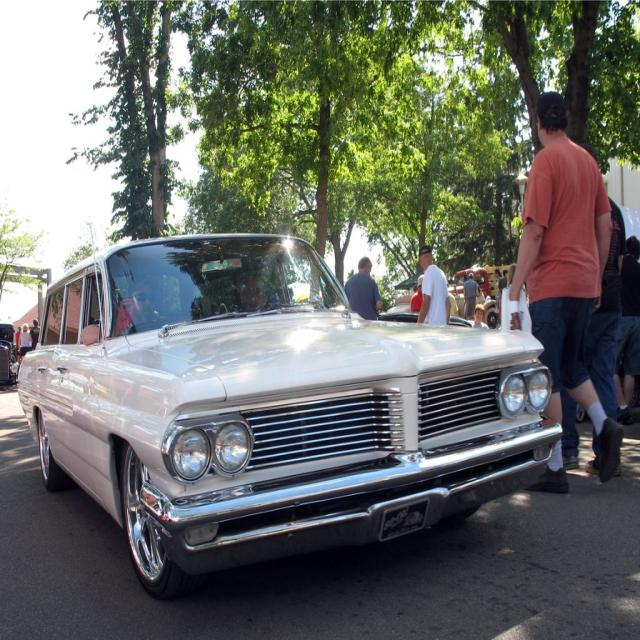car: (20, 242, 569, 593)
